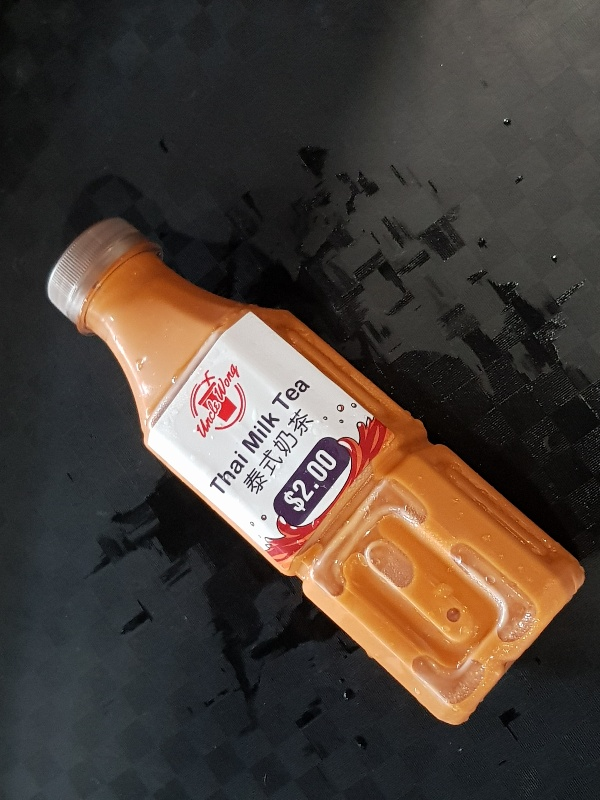Thai Milk Tea: (47, 214, 587, 727)
